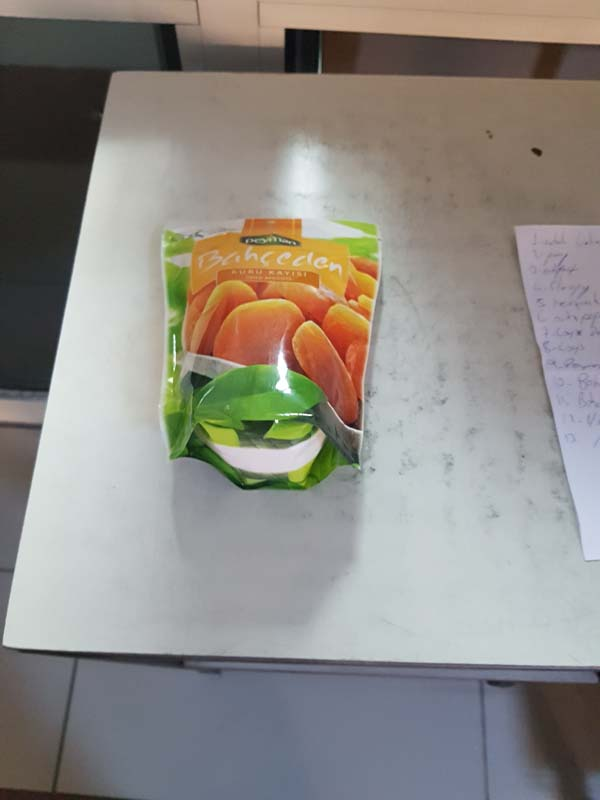bahcedenkurukayisi: (153, 214, 394, 495)
